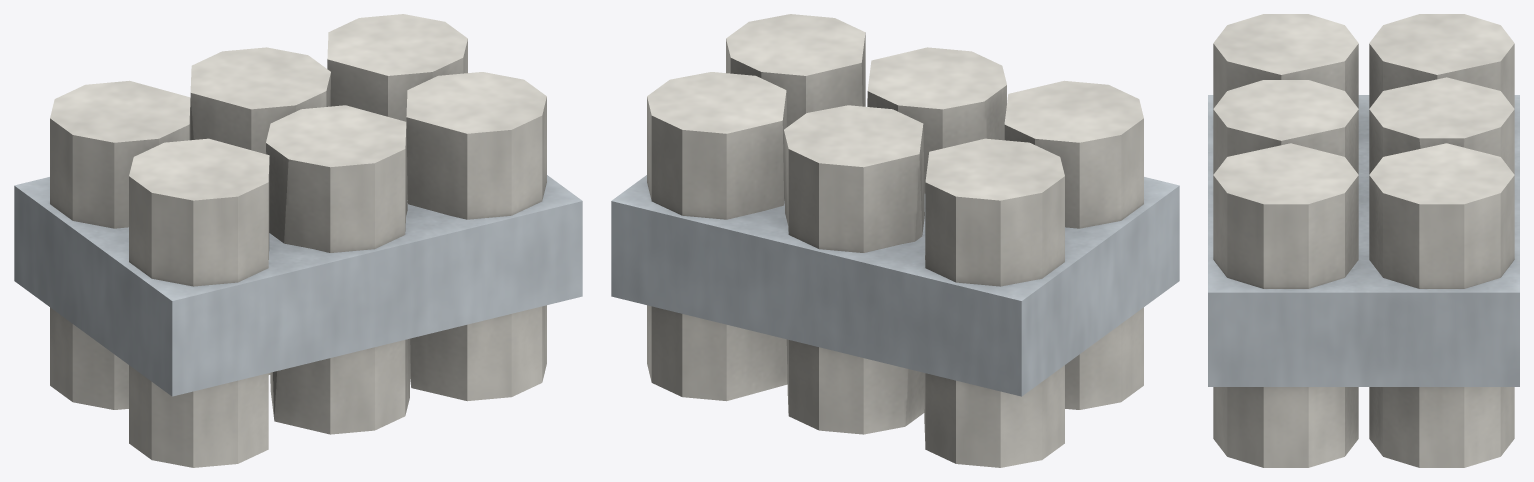
File: Item_ToiletPaper.fbx
3 renders of one model, left to right at view 1: azimuth 30°, elevation 25°; view 2: azimuth 150°, elevation 25°; view 3: azimuth 270°, elevation 25°, orthographic.
Parts seen in each view (by area): view 1: Item_ToiletPaper; view 2: Item_ToiletPaper; view 3: Item_ToiletPaper.
Boxes of the visible parts, bbox=[...] form: Item_ToiletPaper: bbox=[14, 14, 582, 467]; Item_ToiletPaper: bbox=[611, 14, 1179, 467]; Item_ToiletPaper: bbox=[1208, 14, 1519, 467].
Size of the model in its own units: 0.45 by 0.28 by 0.3.
Materials: 1 (1 with a texture image).
